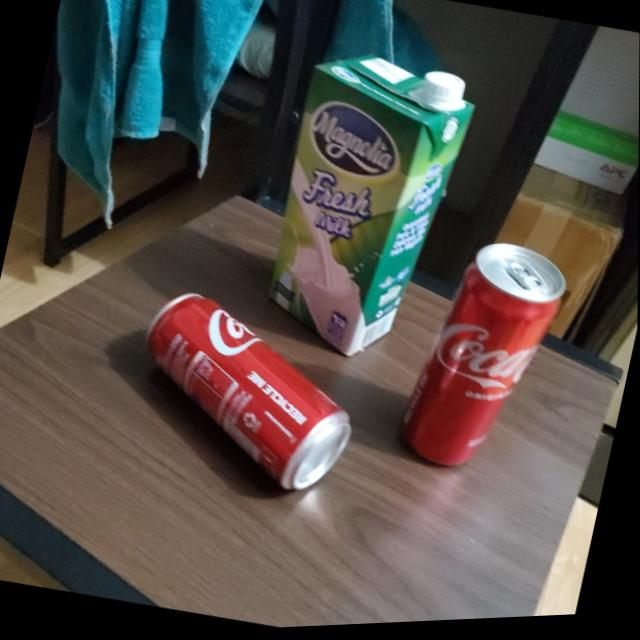coke: (117, 277, 377, 510), (391, 234, 573, 493)
milk: (251, 39, 483, 374)
